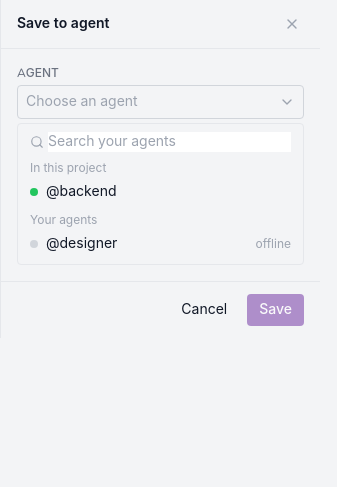
it: SaveToAgentPanel › opens at storage/, saves, and tells the agent
The image size is (337, 487).
Click the button "@backend" at (88, 192), box [22, 176, 299, 208]
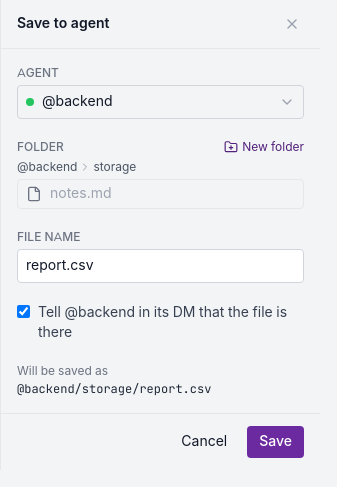
Expected: the text "notes.md" is shown, [50, 184, 112, 204]
Expected: the text "@backend/storage/report.csv" is shown, [17, 381, 211, 397]
Click the button "Save" at (276, 442), box [247, 426, 304, 458]
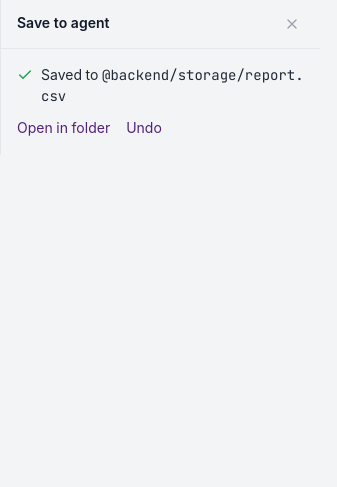
Expected: the link "Open in folder" is shown, [17, 119, 110, 139]
